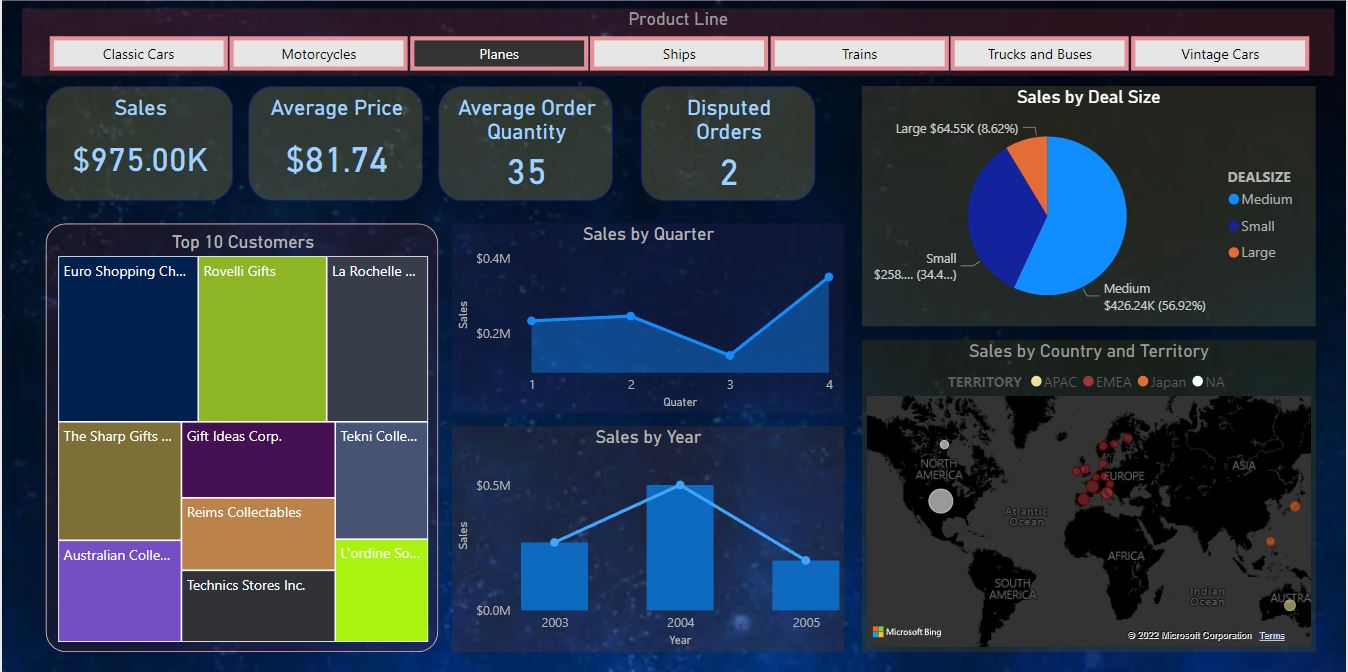

What the dashboard file says about the page in this screenshot:
{"tool":"powerbi","page":{"name":"Page 1","canvas":[1280,720],"ordinal":0},"visuals":[{"type":"card","title":"Sales","fields":{"Values":["Sum(sales_data_sample.SALES)"]},"box":[41.7,119,178.5,109.5],"z":0},{"type":"slicer","title":"Product Line","fields":{"Values":["sales_data_sample.PRODUCTLINE"]},"box":[19,45.2,1249.6,64.3],"z":1000},{"type":"card","title":"Average Price","fields":{"Values":["Avg(sales_data_sample.PRICEEACH)"]},"box":[234.4,119,166.6,109.5],"z":2000},{"type":"card","title":"Average Order Quantity","fields":{"Values":["Avg(sales_data_sample.QUANTITYORDERED)"]},"box":[415.3,119,166.6,109.5],"z":3000},{"type":"map","title":"Sales by Country and Territory","fields":{"Category":["sales_data_sample.COUNTRY"],"Size":["Sum(sales_data_sample.SALES)"],"Series":["sales_data_sample.TERRITORY"]},"box":[818.8,360.6,432,297.5],"z":4000},{"type":"pieChart","title":"Sales by Deal Size","fields":{"Y":["Sum(sales_data_sample.SALES)"],"Category":["sales_data_sample.DEALSIZE"]},"box":[818.8,119,432,228.5],"z":5000},{"type":"lineStackedColumnComboChart","title":"Sales by Year","fields":{"Category":["sales_data_sample.YEAR_ID"],"Y":["Sum(sales_data_sample.SALES)"],"Y2":["Sum(sales_data_sample.SALES)"]},"box":[428.4,442.7,373.7,215.4],"z":6000},{"type":"card","title":"Disputed Orders","fields":{"Values":["Sum(sales_data_sample.Disputed2)"]},"box":[608.4,119.5,166.2,109.9],"z":7000},{"type":"treemap","title":"Top 10 Customers","fields":{"Group":["sales_data_sample.CUSTOMERNAME"],"Values":["Sum(sales_data_sample.SALES)"]},"box":[41.7,249.9,373.7,408.2],"z":7001},{"type":"stackedAreaChart","title":"Sales by Quarter","fields":{"Category":["sales_data_sample.QTR_ID"],"Y":["Sum(sales_data_sample.SALES)"]},"box":[428.4,249.9,373.7,180.9],"z":7002}]}

Visuals, with their boxes on the page's 1280x720 design canvas (x1, y1, x2, y2). These are canvas units, not pixel positions in the 1348x672 screenshot, which may show the page scaled, cropped or inside an application window:
"Sales" card: (42, 119, 220, 228)
"Product Line" slicer: (19, 45, 1269, 110)
"Average Price" card: (234, 119, 401, 228)
"Average Order Quantity" card: (415, 119, 582, 228)
"Sales by Country and Territory" map: (819, 361, 1251, 658)
"Sales by Deal Size" pieChart: (819, 119, 1251, 348)
"Sales by Year" lineStackedColumnComboChart: (428, 443, 802, 658)
"Disputed Orders" card: (608, 120, 775, 229)
"Top 10 Customers" treemap: (42, 250, 415, 658)
"Sales by Quarter" stackedAreaChart: (428, 250, 802, 431)
